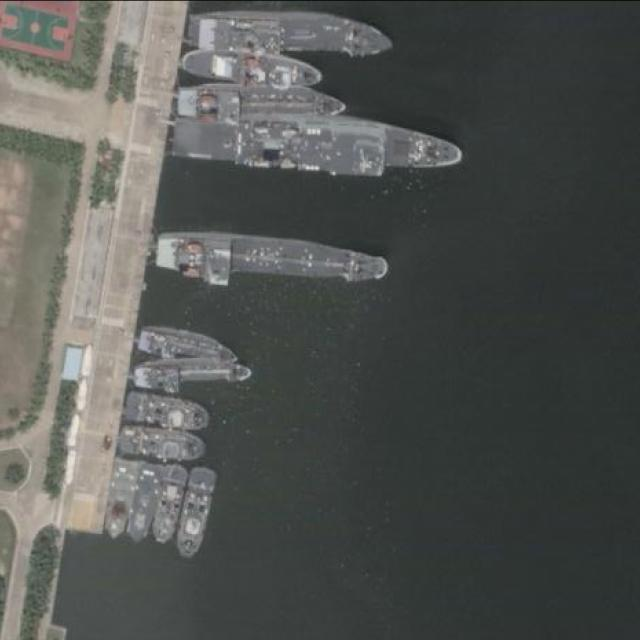Landing: (167, 111, 460, 180), (154, 227, 391, 293), (184, 13, 394, 56)
Other Warship: (175, 81, 348, 122), (134, 319, 245, 372), (180, 50, 323, 85), (170, 466, 220, 559), (131, 362, 251, 394), (124, 390, 213, 433), (147, 461, 190, 548), (118, 423, 207, 465), (100, 456, 141, 543), (124, 460, 164, 546)
